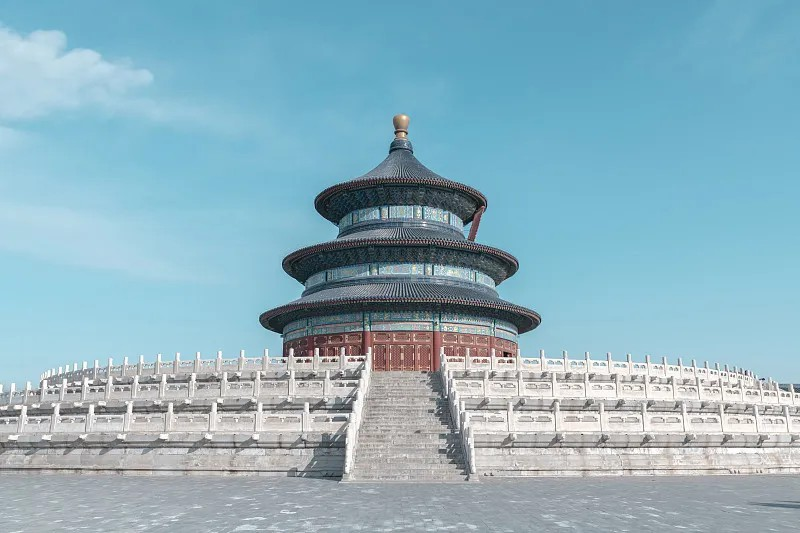Heaven: (258, 113, 541, 369)
